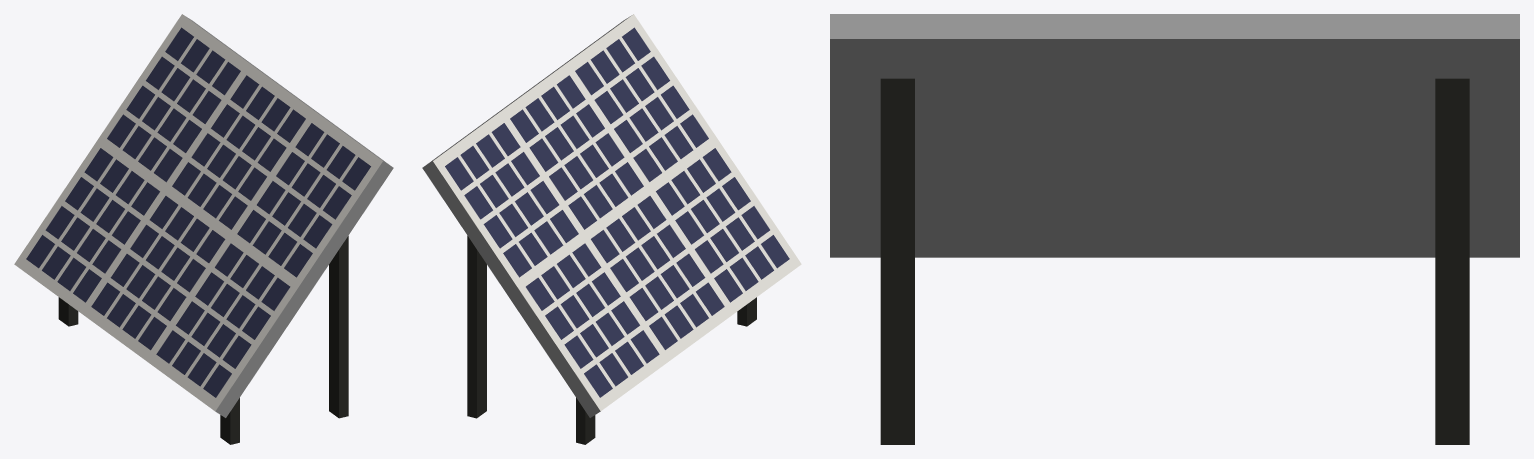
The model's file is 07 Solar_panel.FBX.
3 renders of one model, left to right at view 1: azimuth 30°, elevation 25°; view 2: azimuth 150°, elevation 25°; view 3: azimuth 270°, elevation 25°, orthographic. The views are drawn at different scales.
Parts seen in each view (by area): view 1: Solar_panel; view 2: Solar_panel; view 3: Solar_panel.
Boxes of the visible parts, left/top/right/bottom form: Solar_panel: left=14, top=14, right=393, bottom=444; Solar_panel: left=422, top=14, right=801, bottom=444; Solar_panel: left=830, top=14, right=1519, bottom=444.
Bounding box in the file's own units: 1025 × 1432 × 2000.
